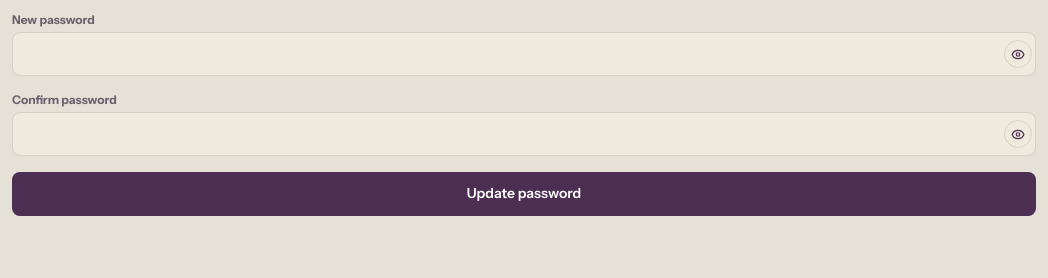
Test: ResetPasswordForm › blocks submission when the passwords don't match
This screenshot has width=1048, height=278.
Type "newlongpassword" into the password field labelled "New password" at x=524, y=54, box [12,32,1036,76]
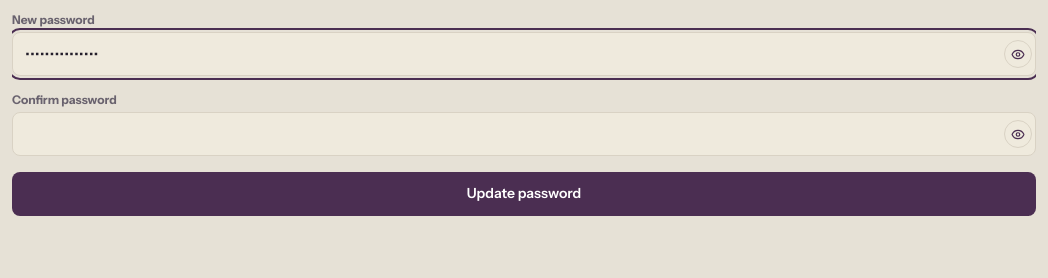
Type "different" into the password field labelled "Confirm password" at x=524, y=134, box [12,112,1036,156]
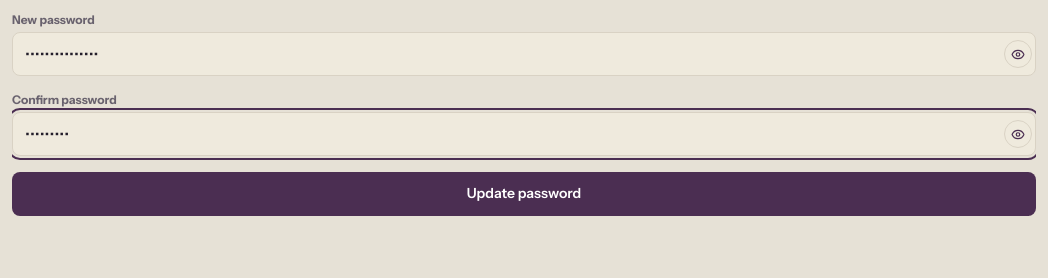
Click the button "Update password" at x=524, y=194, box [12,172,1036,216]
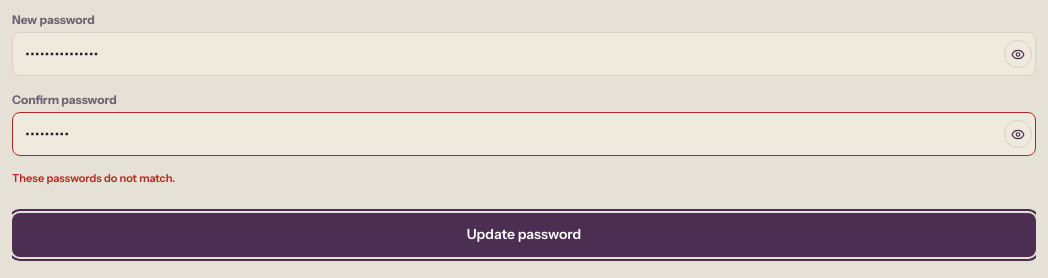
Expected: the text "These passwords do not match." is shown, [12,171,175,185]
